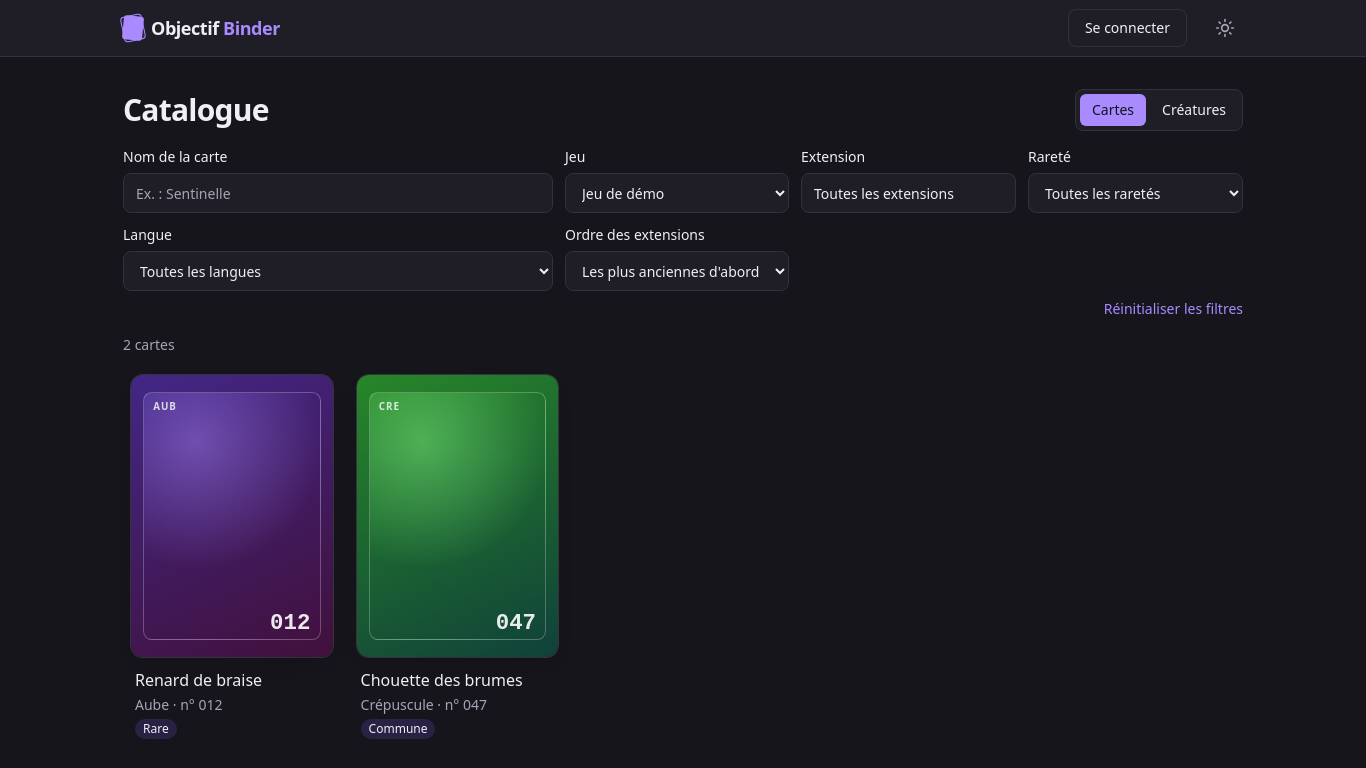
Test: CardSearchPage › filters › filters by set, sending its code to the API
Note: Typed without its accent, and only in part.
In the dropdown labelled "Extension": (908, 193) 801,173 -> 1016,213, type "crepu"
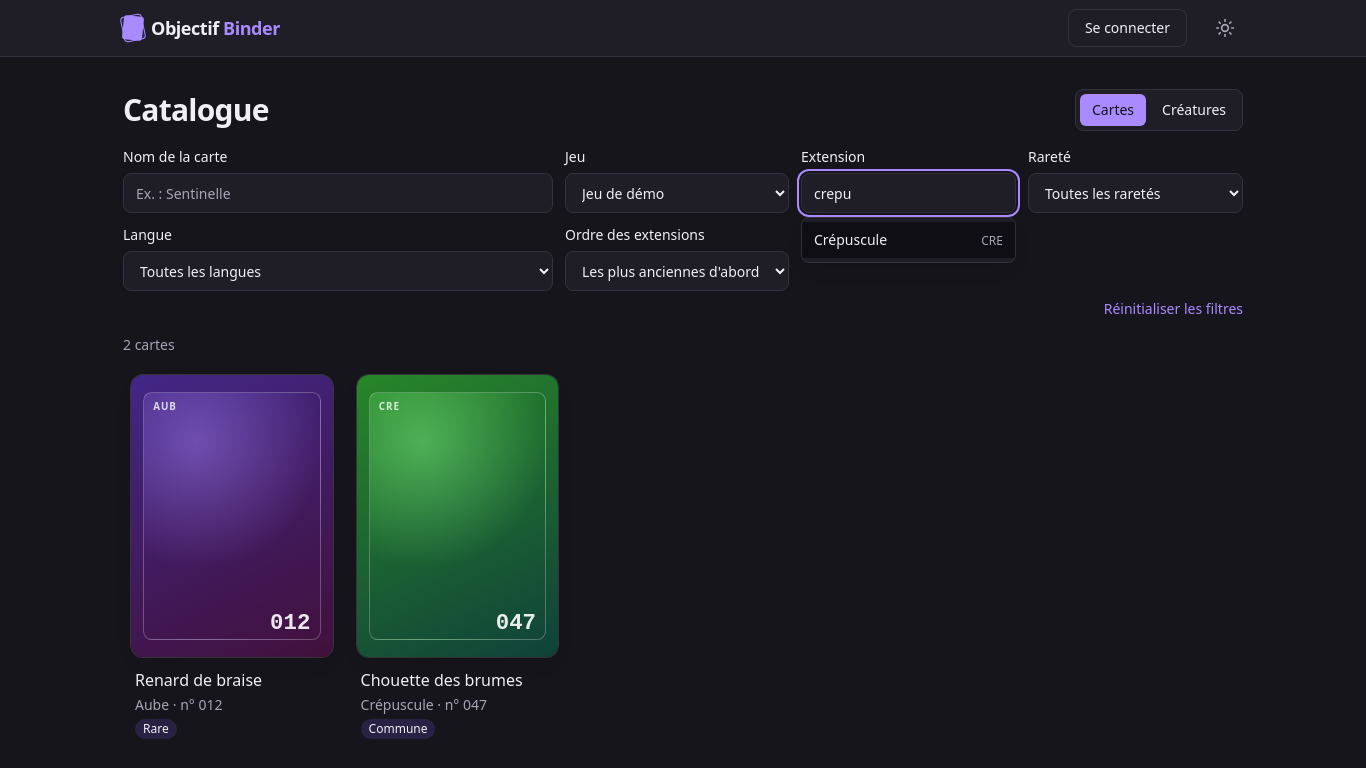
Click the option "Crépuscule CRE": (908, 240) 802,222 -> 1015,258
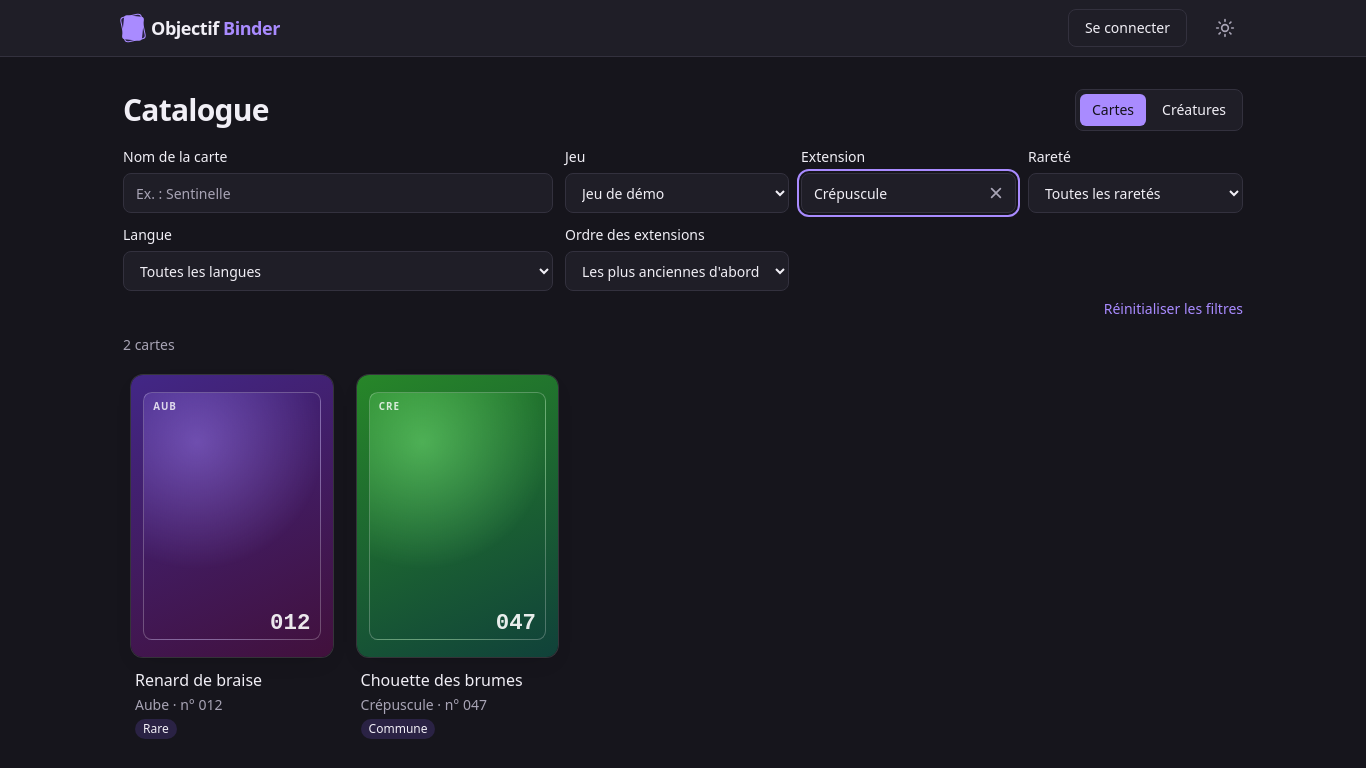
Expected: the dropdown labelled "Extension" holds "Crépuscule", 801,173 -> 1016,213
